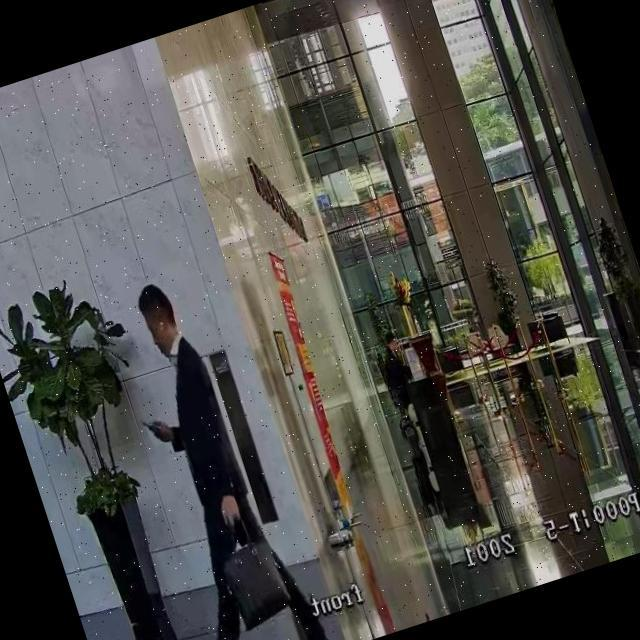person: (78, 263, 335, 640), (373, 329, 417, 398)
